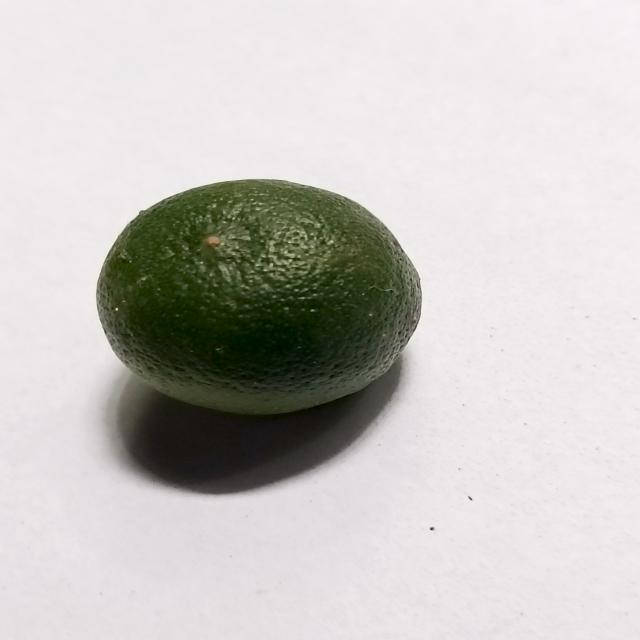heathy: (94, 178, 429, 423)
